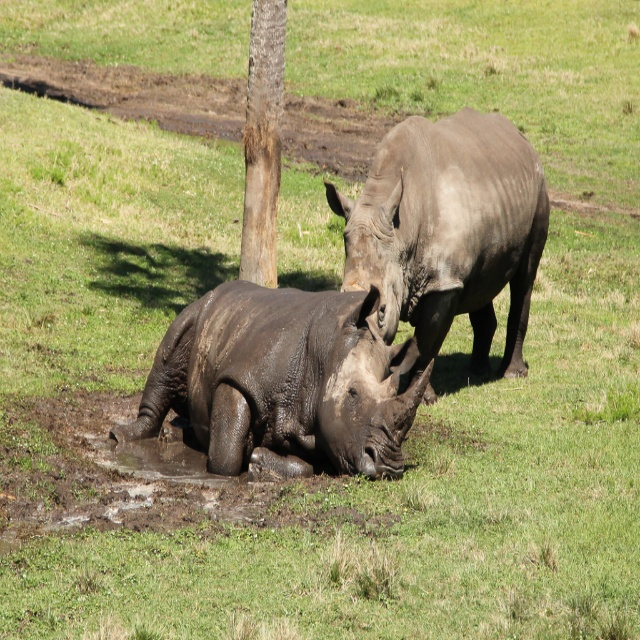Rhinoceros: (323, 105, 550, 407), (109, 280, 435, 482)
